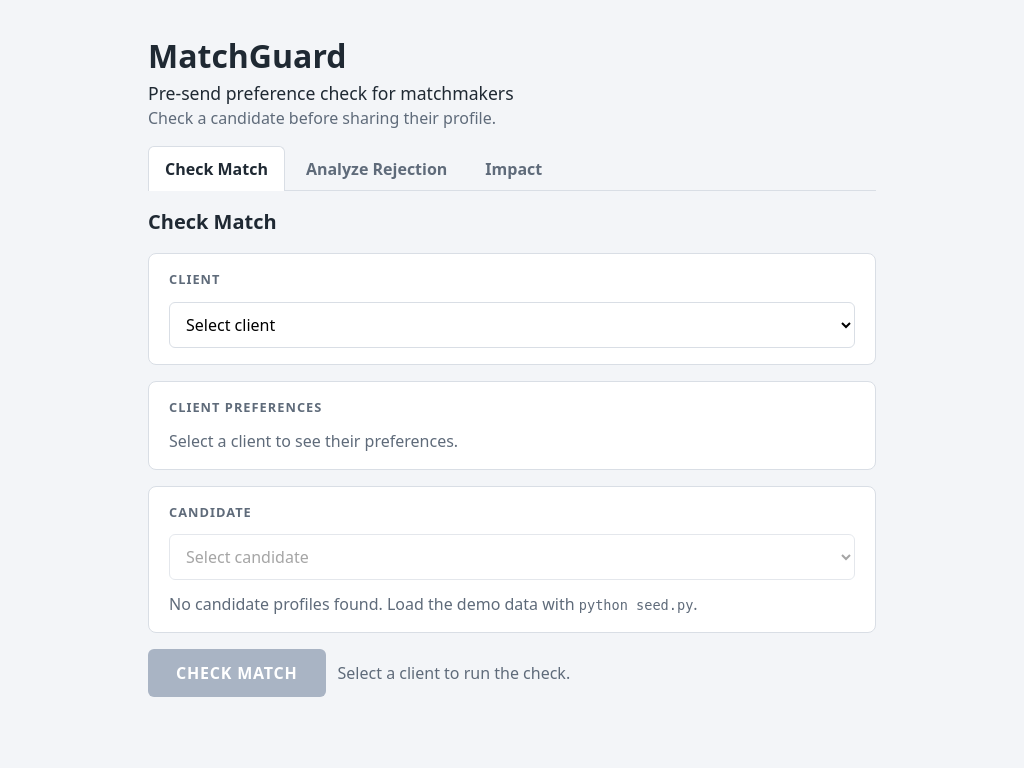
Test: Impact mode › shows all three tabs and renders the Impact screen
The width and height of the screenshot is (1024, 768).
What coordinates should you click on to do the following:
click the tab "Impact"
I would click on:
 (514, 169)
Its box is [468, 146, 559, 191].
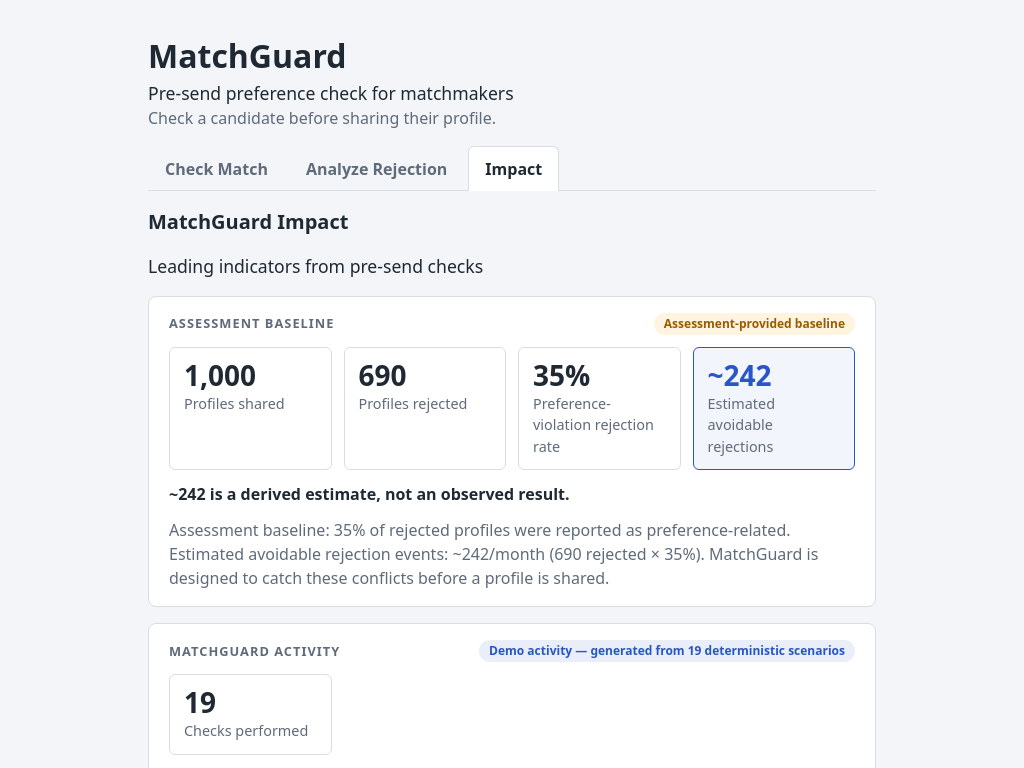
expect the heading "MatchGuard Impact" is shown: met, box [148, 208, 348, 235]
expect the text "Leading indicators from pre-send checks" is shown: met, box [148, 254, 483, 278]
expect the text "Assessment-provided baseline" is shown: met, box [654, 313, 855, 335]
